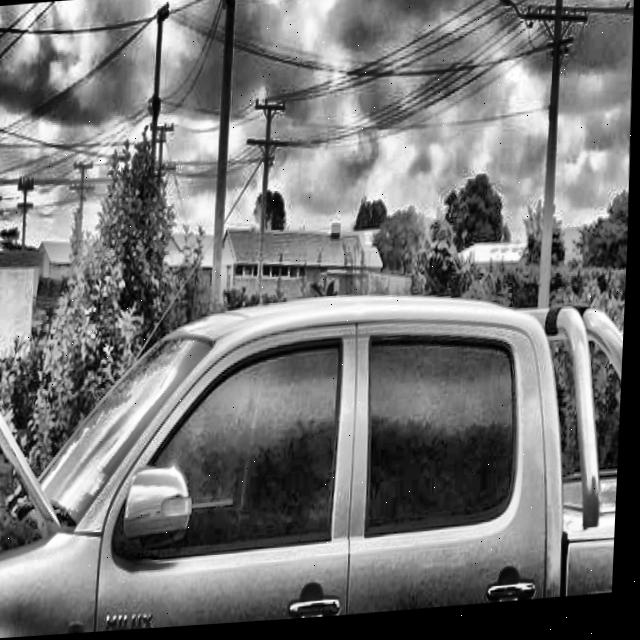light_vehicle: (0, 114, 635, 640)
